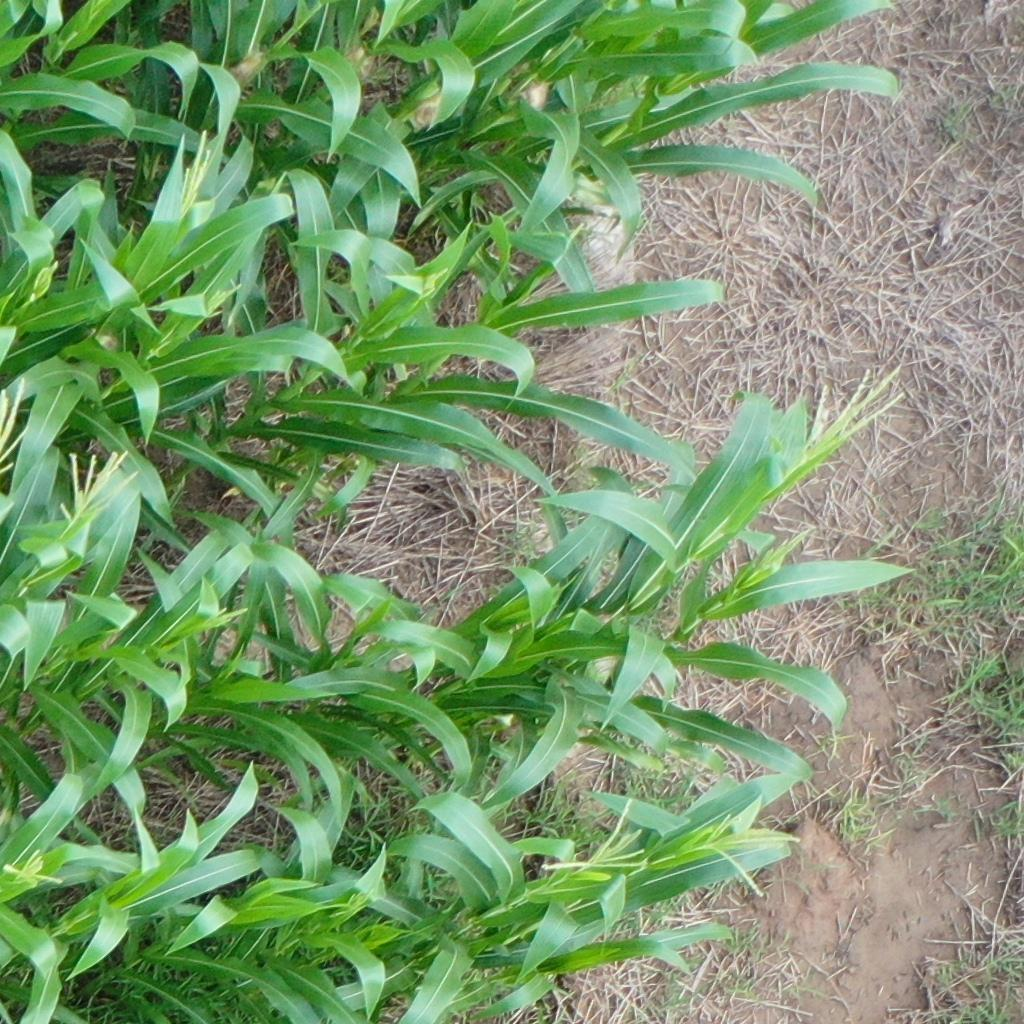Tassel: (542, 794, 655, 884), (704, 810, 805, 898), (807, 361, 901, 453), (51, 446, 137, 537), (744, 525, 811, 586), (168, 132, 216, 209), (1, 380, 32, 478), (1, 847, 66, 889), (204, 605, 247, 632), (202, 282, 242, 308), (417, 266, 449, 289), (348, 888, 374, 909)
